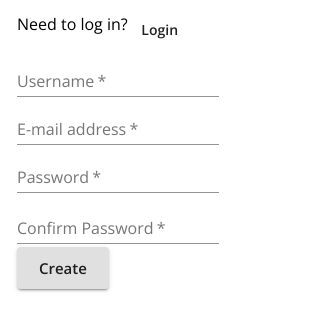
it: Auth Screens › Loads login page
Click the button "Login": (160, 31) [128,12,192,49]
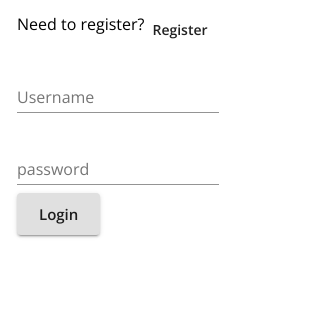
Result: the button "Login" is shown at [17,192,100,235]
